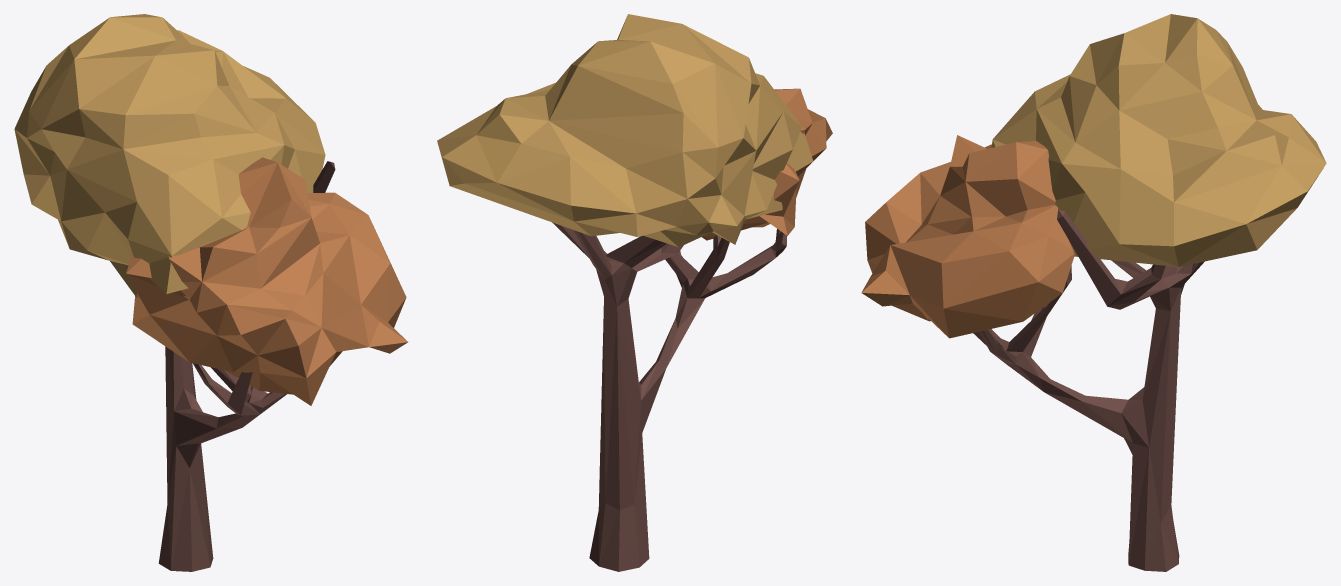
Rendered from CommonTree_Autumn_2.lod2.glb.
The picture shows the model from 3 angles, left to right: view 1: azimuth 30°, elevation 25°; view 2: azimuth 150°, elevation 25°; view 3: azimuth 270°, elevation 25°; orthographic projection. The views are drawn at different scales.
Parts seen in each view (by area): view 1: CommonTree_Autumn_2; view 2: CommonTree_Autumn_2; view 3: CommonTree_Autumn_2.
Boxes of the visible parts, bbox=[...] form: CommonTree_Autumn_2: bbox=[14, 14, 408, 571]; CommonTree_Autumn_2: bbox=[437, 14, 832, 571]; CommonTree_Autumn_2: bbox=[861, 14, 1326, 571].
Size of the model in its own units: 1.66 by 3.12 by 2.54.
